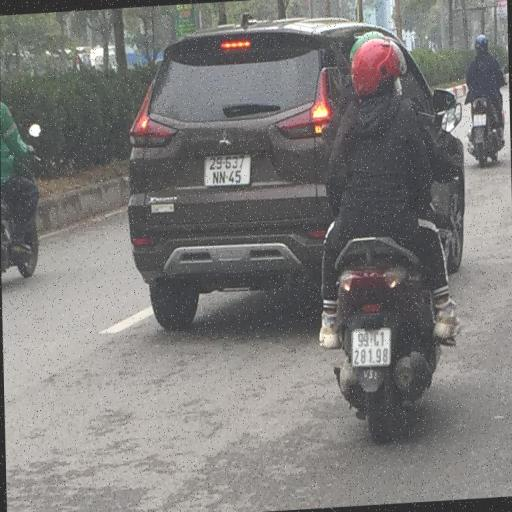bike: (312, 20, 462, 442), (0, 94, 42, 280), (464, 31, 507, 166)
numberplate: (350, 324, 392, 369), (472, 112, 487, 127)
with helmet: (349, 35, 407, 99), (473, 34, 489, 52)
